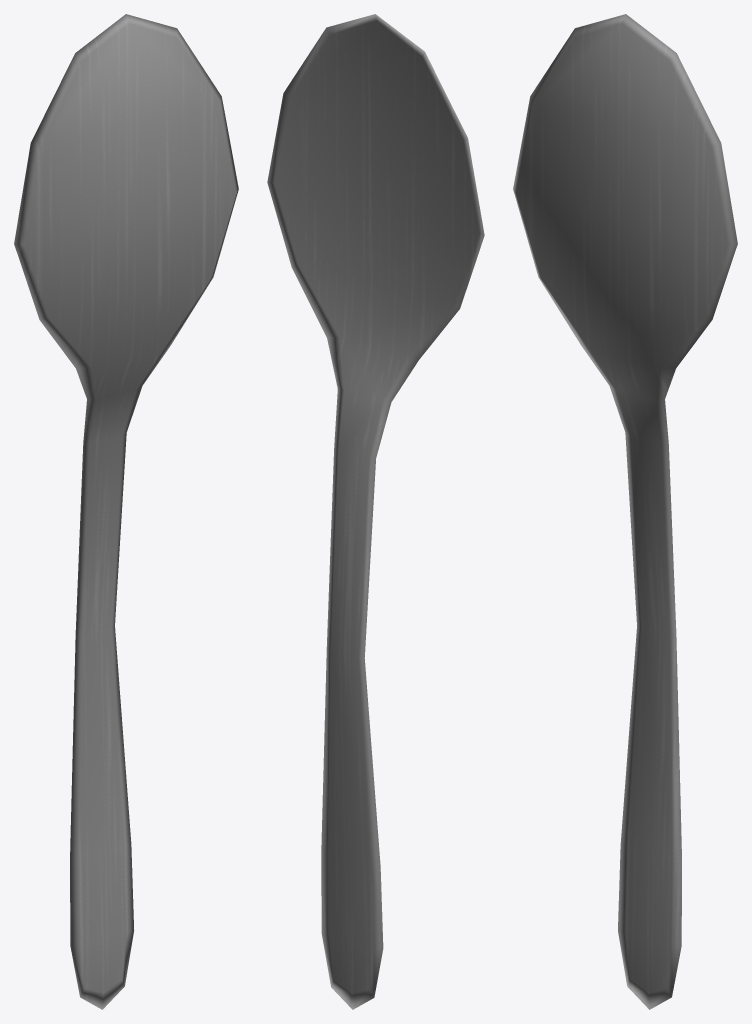
The model's file is spoon.glb.
The picture shows the model from 3 angles, left to right: view 1: azimuth 30°, elevation 25°; view 2: azimuth 150°, elevation 25°; view 3: azimuth 330°, elevation 25°; orthographic projection. The views are drawn at different scales.
Visible parts, largest first — view 1: spoon; view 2: spoon; view 3: spoon.
Boxes of the visible parts, x1,y1,x2,y2 form: spoon: (14, 14, 238, 1009); spoon: (267, 14, 484, 1009); spoon: (513, 14, 737, 1009).
Bounding box in the file's own units: 0.0455 × 0.1959 × 0.0127.
Materials: 1 (1 with a texture image).
